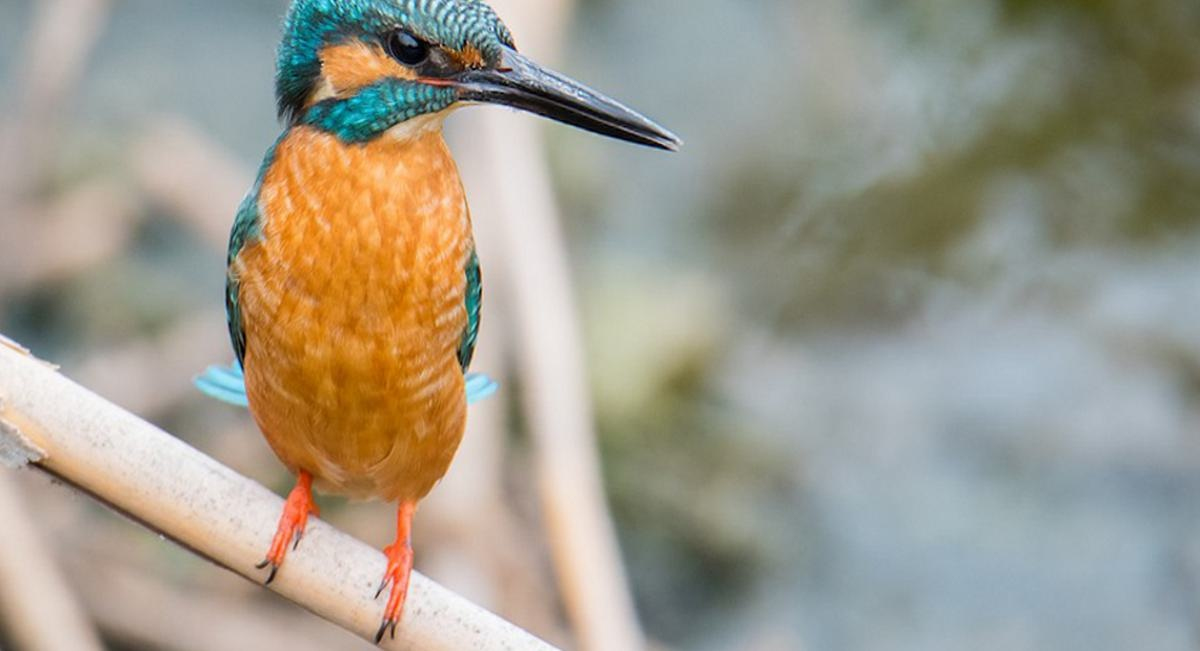kingfisher: (208, 6, 687, 651)
